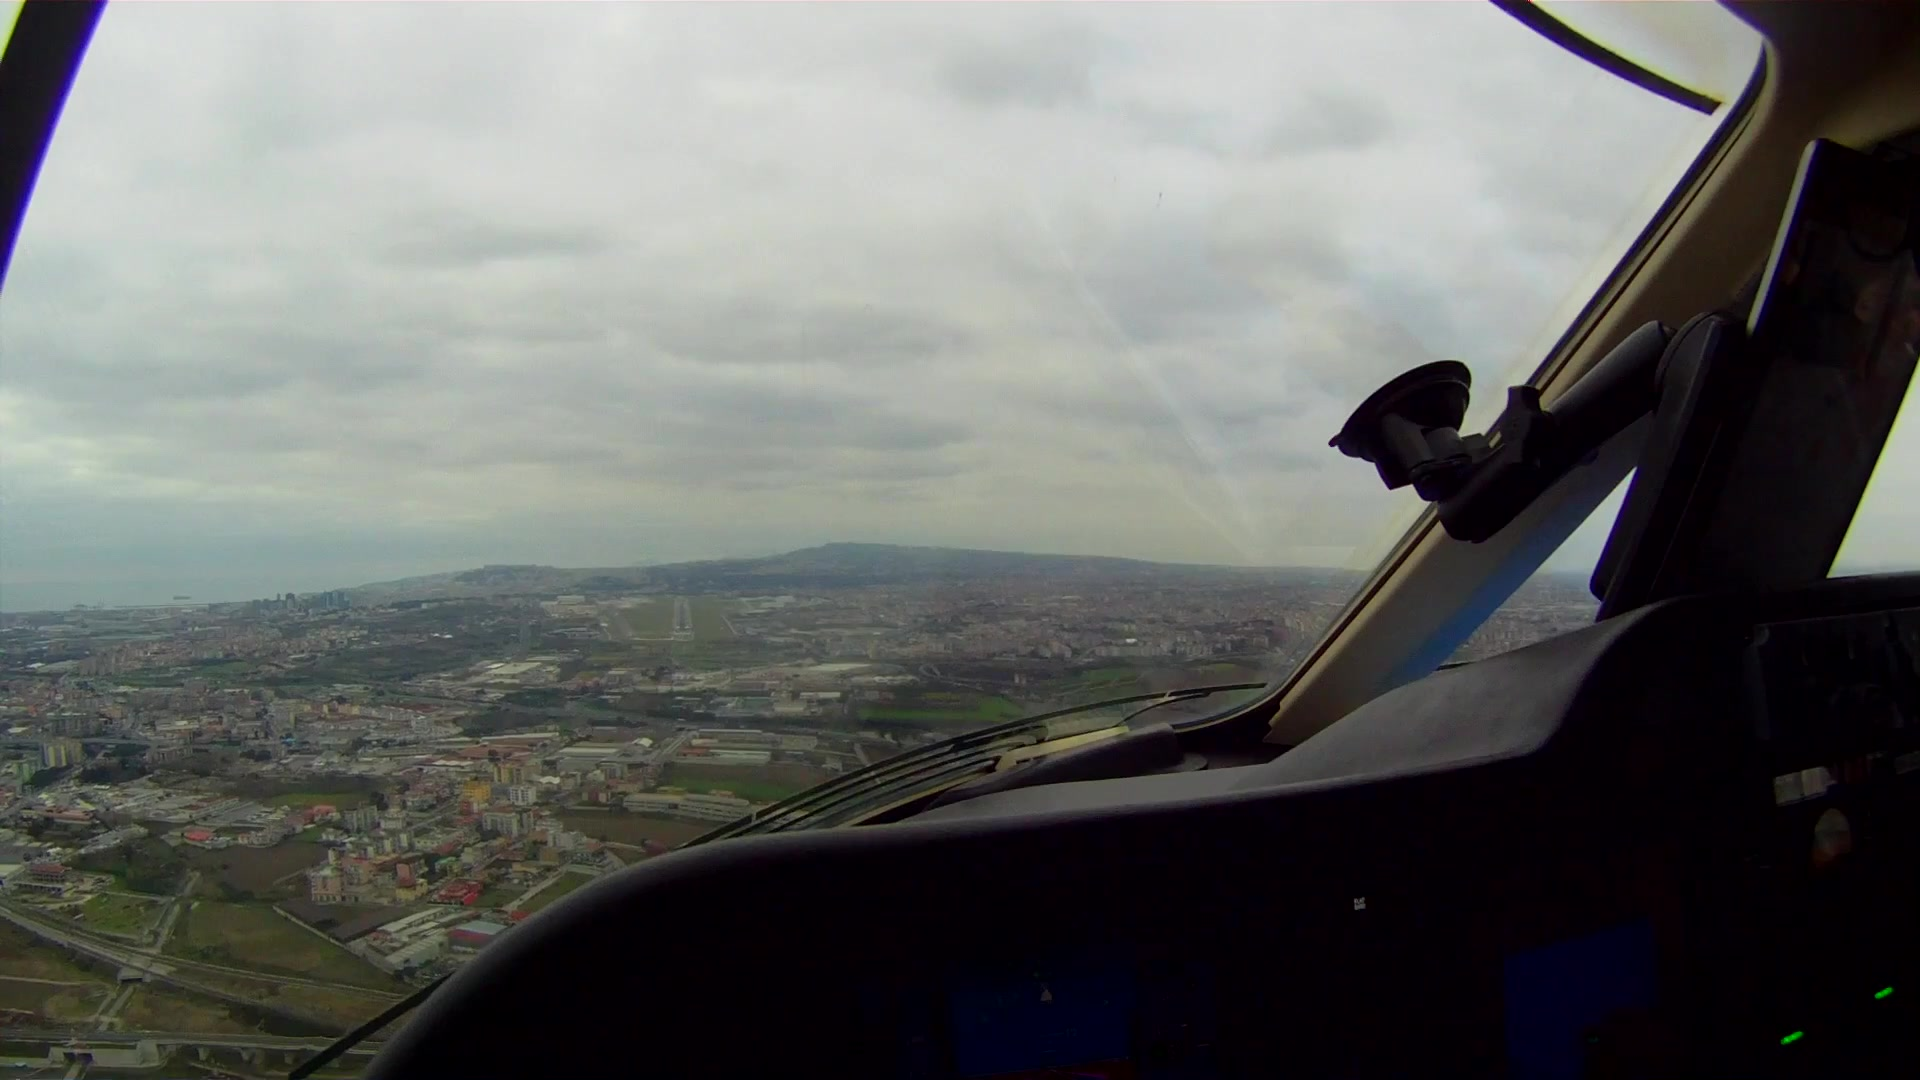runway: (673, 591, 694, 632)
